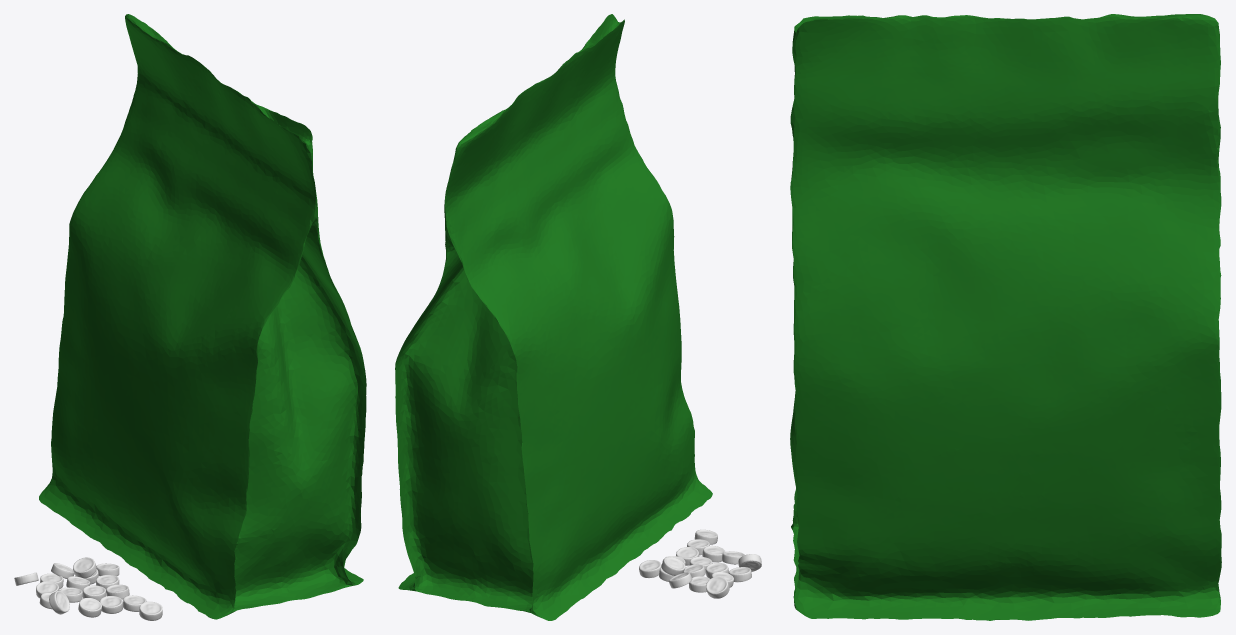
The model's file is eco_tabs.fbx.
3 views of the same model, side by side, from view 1: azimuth 30°, elevation 25°; view 2: azimuth 150°, elevation 25°; view 3: azimuth 270°, elevation 25° (orthographic). The views are drawn at different scales.
Parts seen in each view (by area): view 1: eco_tabs; view 2: eco_tabs; view 3: eco_tabs.
Boxes of the visible parts, x1,y1,x2,y2 form: eco_tabs: (14,14,366,620); eco_tabs: (395,14,761,620); eco_tabs: (790,14,1221,620).
Size of the model in its own units: 10.63 by 18.65 by 12.52.
